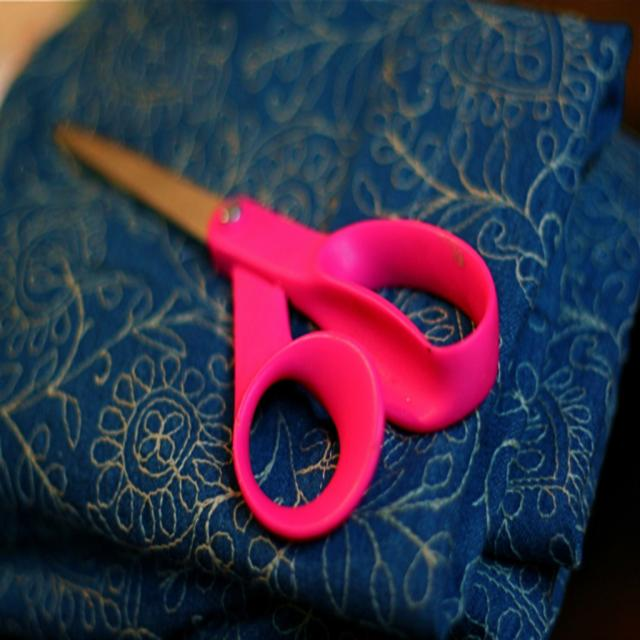scissors: (53, 118, 499, 541)
